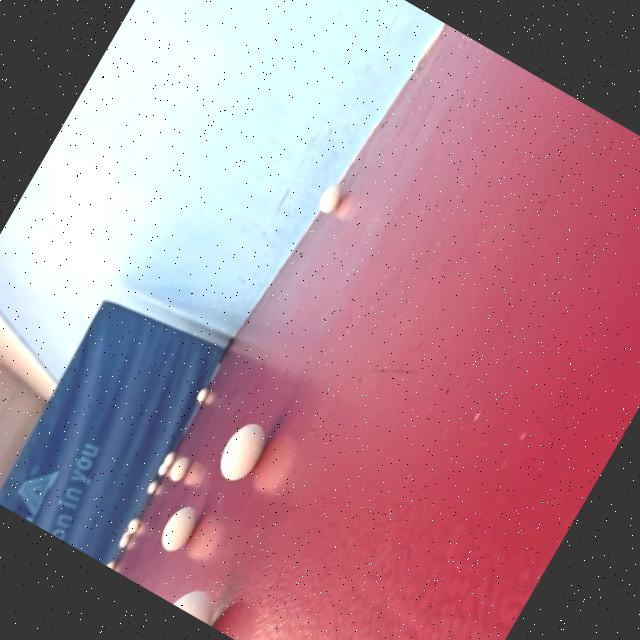ping-pong-ball: (194, 394, 292, 512), (146, 497, 207, 567), (306, 170, 358, 224), (170, 576, 226, 626), (158, 447, 198, 492), (118, 506, 152, 544), (185, 376, 219, 412), (154, 440, 186, 477), (137, 474, 167, 508), (110, 526, 137, 556)
